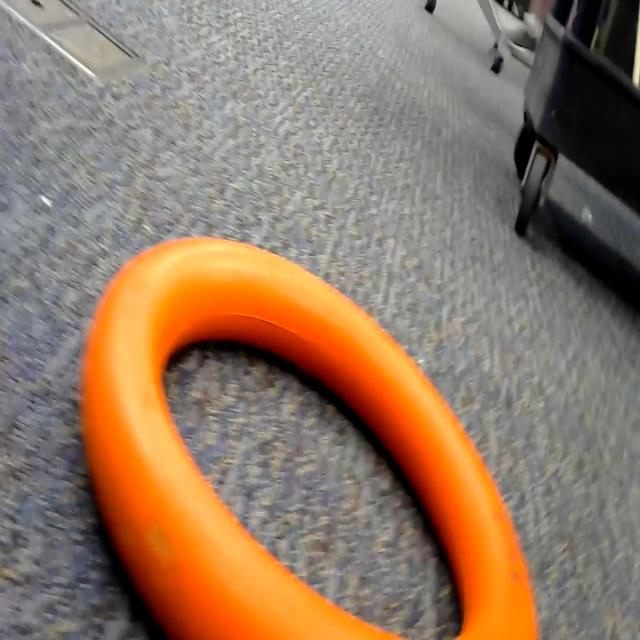note: (76, 234, 540, 640)
